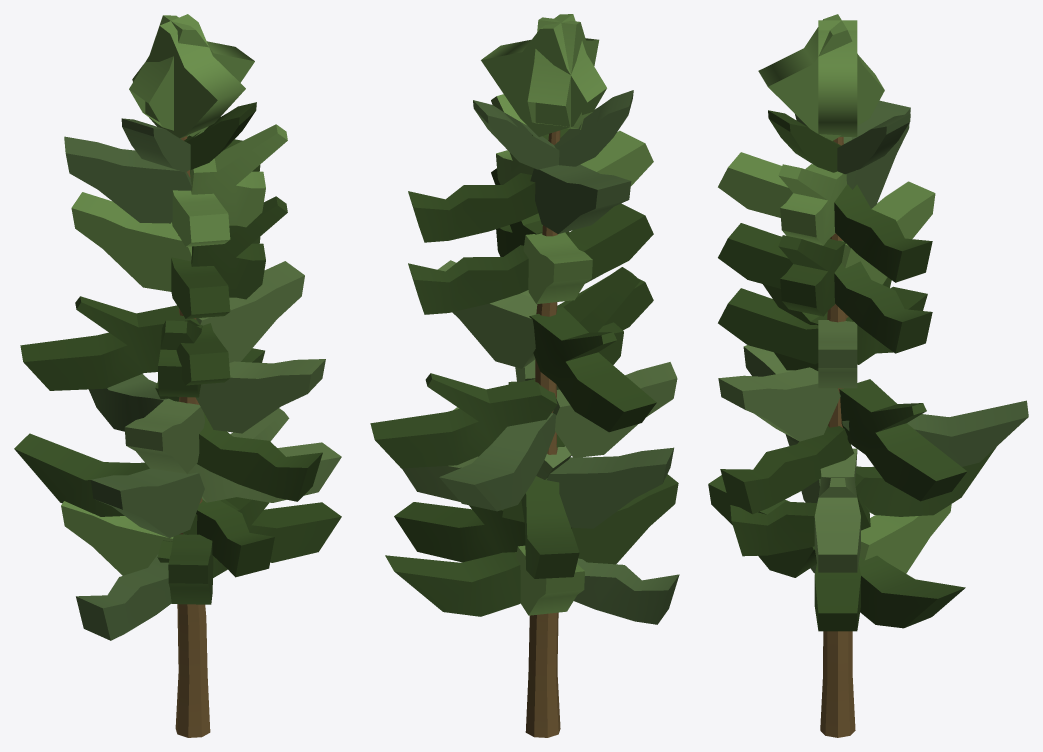
The model's file is Tree.fbx.
The picture shows the model from 3 angles, left to right: view 1: azimuth 30°, elevation 25°; view 2: azimuth 150°, elevation 25°; view 3: azimuth 270°, elevation 25°; orthographic projection.
Visible parts, largest first — view 1: Tree; view 2: Tree; view 3: Tree.
Part boxes in pixels (bbox=[...]): Tree: bbox=[14, 14, 341, 737]; Tree: bbox=[370, 14, 679, 737]; Tree: bbox=[708, 14, 1028, 737].
Size of the model in its own units: 191 by 463 by 192.
